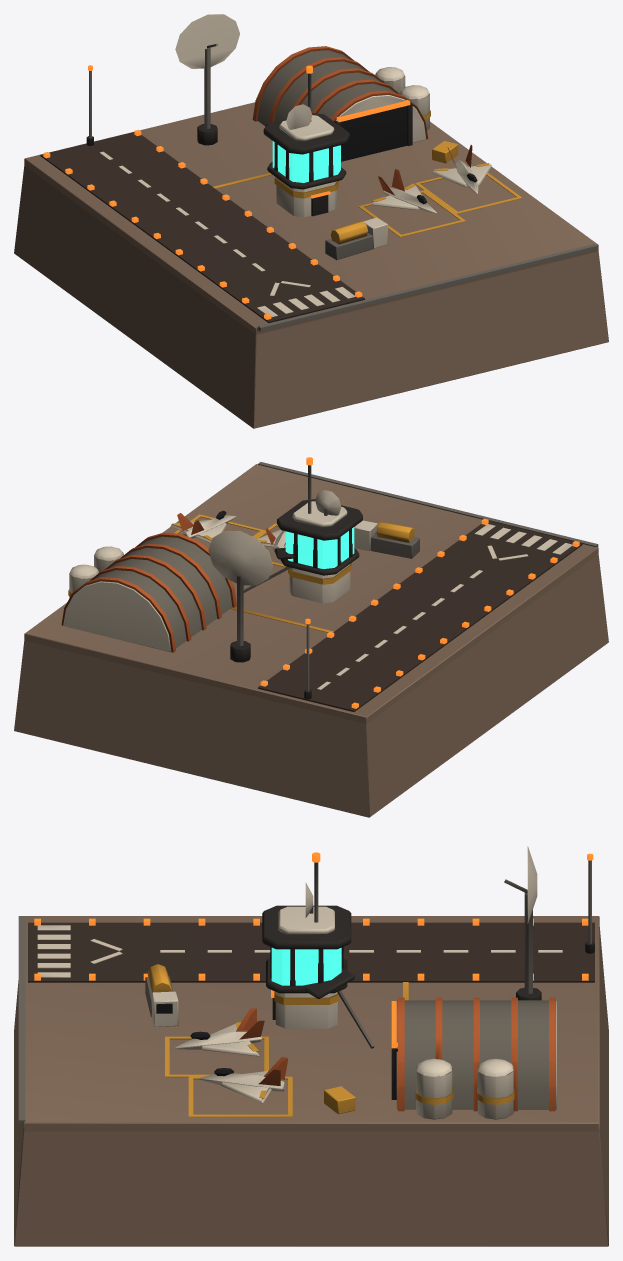
File: airfield-khepri.glb
The picture shows the model from 3 angles, top to bottom: view 1: azimuth 30°, elevation 25°; view 2: azimuth 150°, elevation 25°; view 3: azimuth 270°, elevation 25°; orthographic projection. The views are drawn at different scales.
Visible parts, largest first — view 1: site_airfield_khepri_body, site_airfield_khepri_core, site_airfield_khepri_ruin; view 2: site_airfield_khepri_body, site_airfield_khepri_core, site_airfield_khepri_ruin; view 3: site_airfield_khepri_body, site_airfield_khepri_core, site_airfield_khepri_ruin.
Boxes of the visible parts, box(x1,y1,x2,y2) form: site_airfield_khepri_body: box(14, 14, 608, 428); site_airfield_khepri_core: box(263, 65, 349, 189); site_airfield_khepri_ruin: box(267, 155, 346, 188); site_airfield_khepri_body: box(14, 462, 608, 817); site_airfield_khepri_core: box(277, 457, 362, 575); site_airfield_khepri_ruin: box(236, 543, 359, 594); site_airfield_khepri_body: box(14, 846, 608, 1246); site_airfield_khepri_core: box(262, 852, 351, 993); site_airfield_khepri_ruin: box(266, 947, 374, 1048).
Bounding box in the file's own units: 5.4 × 3.33 × 6.3.
